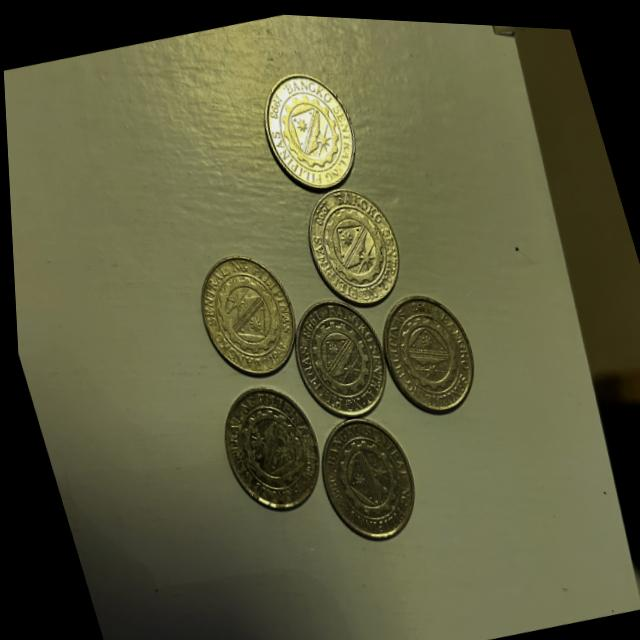1_Old_Back: (221, 393, 312, 499), (197, 259, 287, 365), (316, 425, 406, 529), (379, 303, 469, 402), (305, 191, 390, 294), (292, 308, 375, 402)
